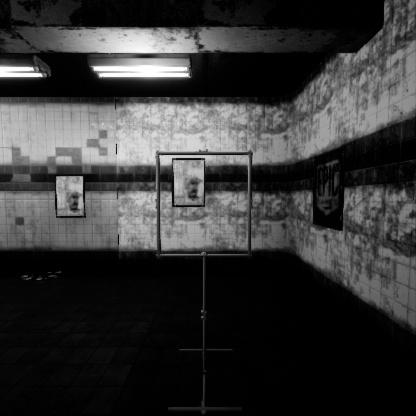gate: (156, 157, 262, 265)
